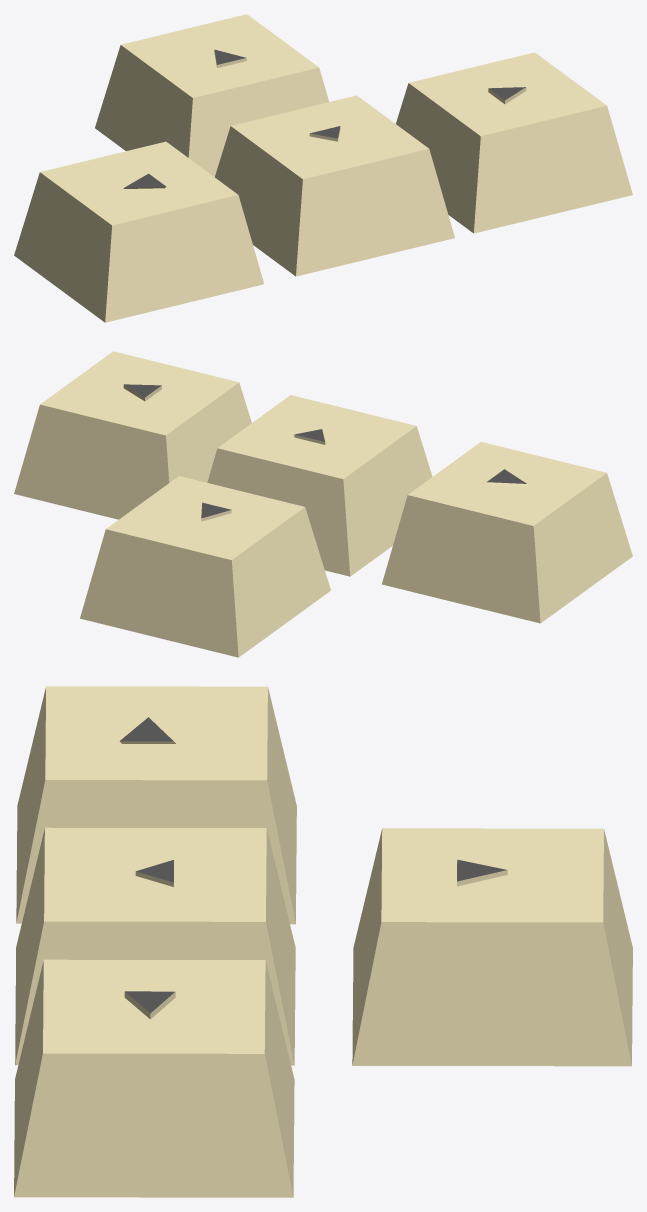
Rendered from keys.glb.
3 renders of one model, top to bottom at view 1: azimuth 30°, elevation 25°; view 2: azimuth 150°, elevation 25°; view 3: azimuth 270°, elevation 25°, orthographic. The views are drawn at different scales.
Parts seen in each view (by area): view 1: Cube.002, Keys, Cube.001, Cube.003; view 2: Cube.003, Cube.002, Cube.001, Keys; view 3: Cube.003, Cube.001, Cube.002, Keys.
Part boxes in pixels (x1=…): Cube.002: x1=14, y1=141, x2=263, y2=322; Keys: x1=215, y1=95, x2=454, y2=276; Cube.001: x1=396, y1=52, x2=632, y2=233; Cube.003: x1=95, y1=14, x2=328, y2=176; Cube.003: x1=80, y1=476, x2=330, y2=657; Cube.002: x1=382, y1=442, x2=632, y2=623; Cube.001: x1=14, y1=351, x2=251, y2=519; Keys: x1=207, y1=395, x2=432, y2=576; Cube.003: x1=352, y1=828, x2=632, y2=1066; Cube.001: x1=14, y1=959, x2=294, y2=1197; Cube.002: x1=16, y1=686, x2=296, y2=924; Keys: x1=15, y1=827, x2=295, y2=1065.
Size of the model in its own units: 6.64 by 1.09 by 4.43.
